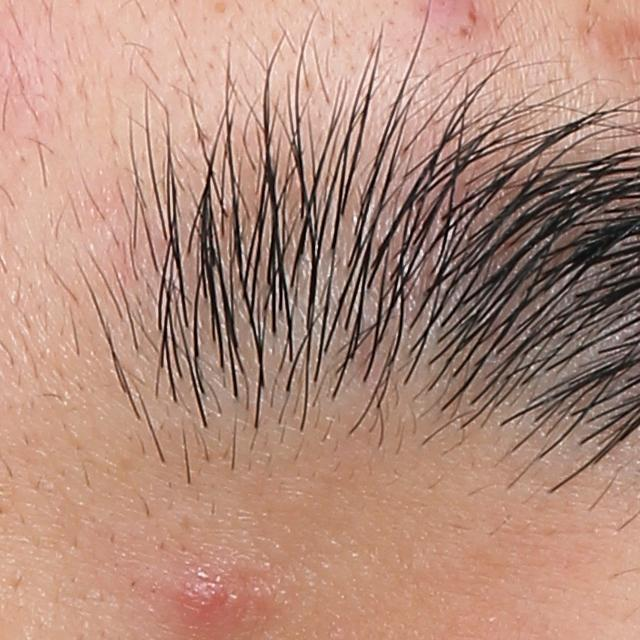papule: (167, 567, 238, 633)
